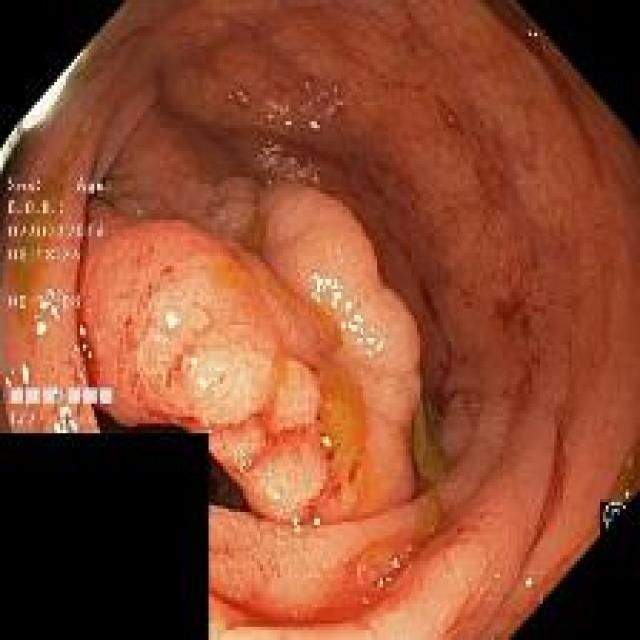Polyps: (79, 179, 421, 524)
